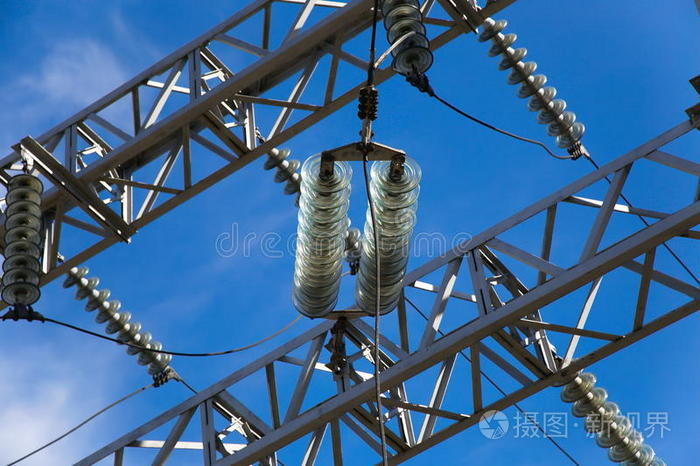insulator: (480, 19, 588, 147), (64, 265, 172, 373), (359, 156, 424, 318), (564, 372, 670, 466), (293, 154, 351, 319), (2, 173, 41, 313), (381, 1, 436, 75), (264, 147, 303, 199)
